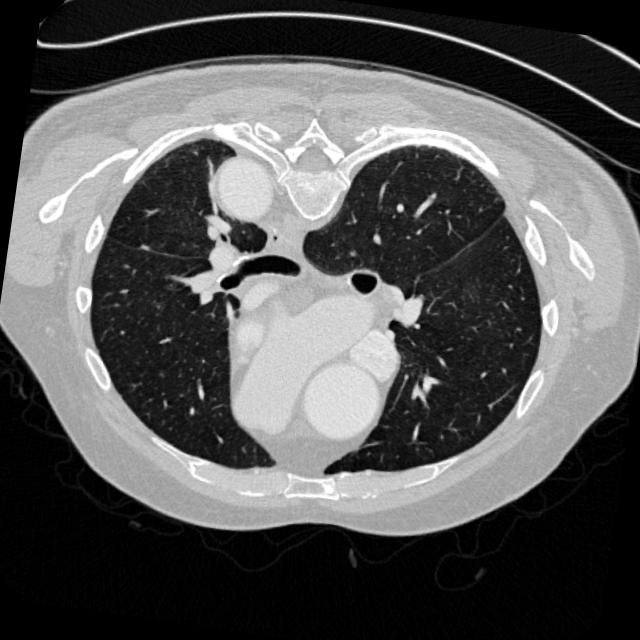nodule: (136, 238, 156, 258)
